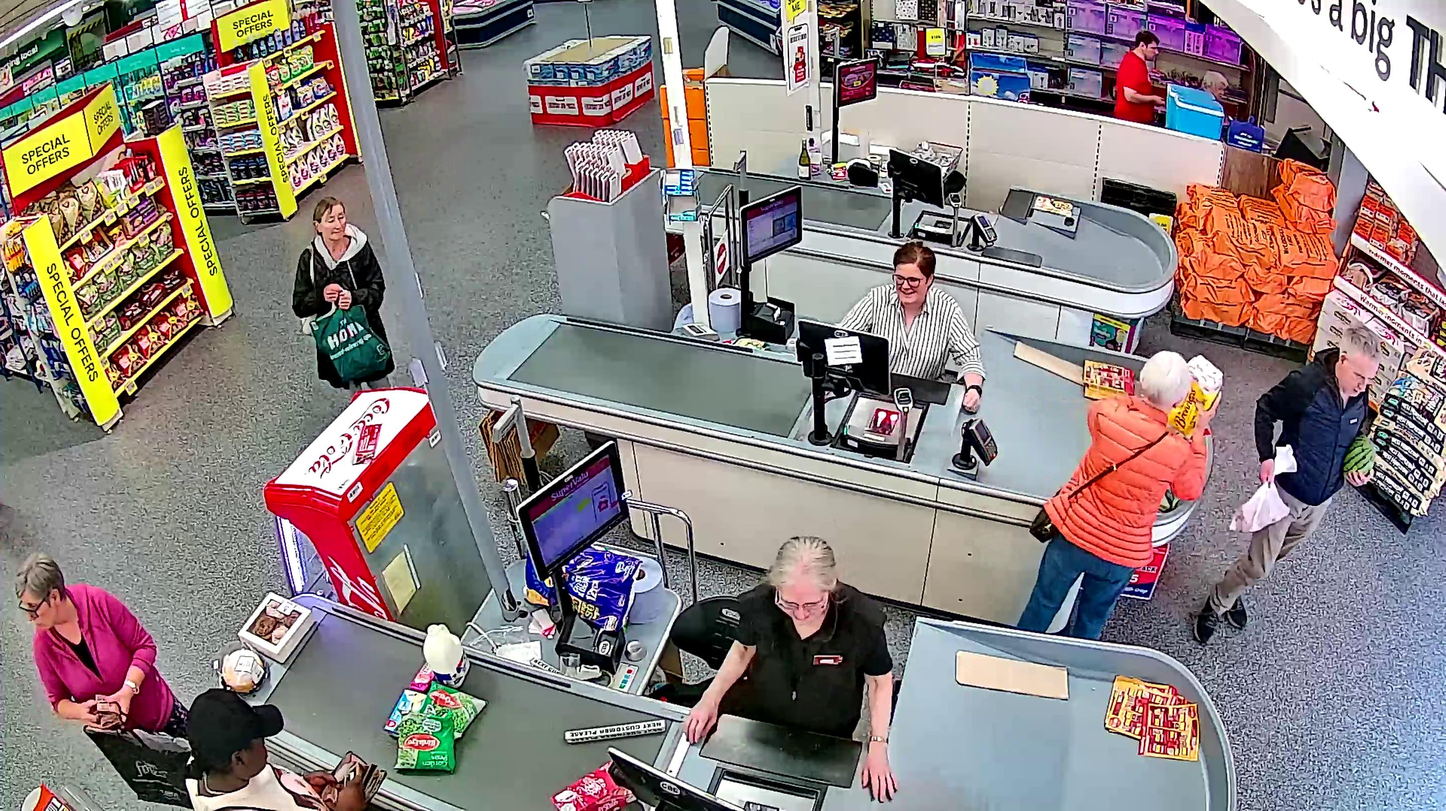filled-shopping-bags: (78, 703, 197, 809), (312, 298, 390, 382)
occupied-checkout-counter: (515, 437, 917, 811), (737, 183, 997, 478)
person: (15, 552, 190, 780), (292, 199, 392, 390)
person-with-filled-shopping-bag-s-: (15, 551, 197, 809), (292, 199, 394, 386)
vacant-checkout-counter: (830, 51, 1012, 269)
